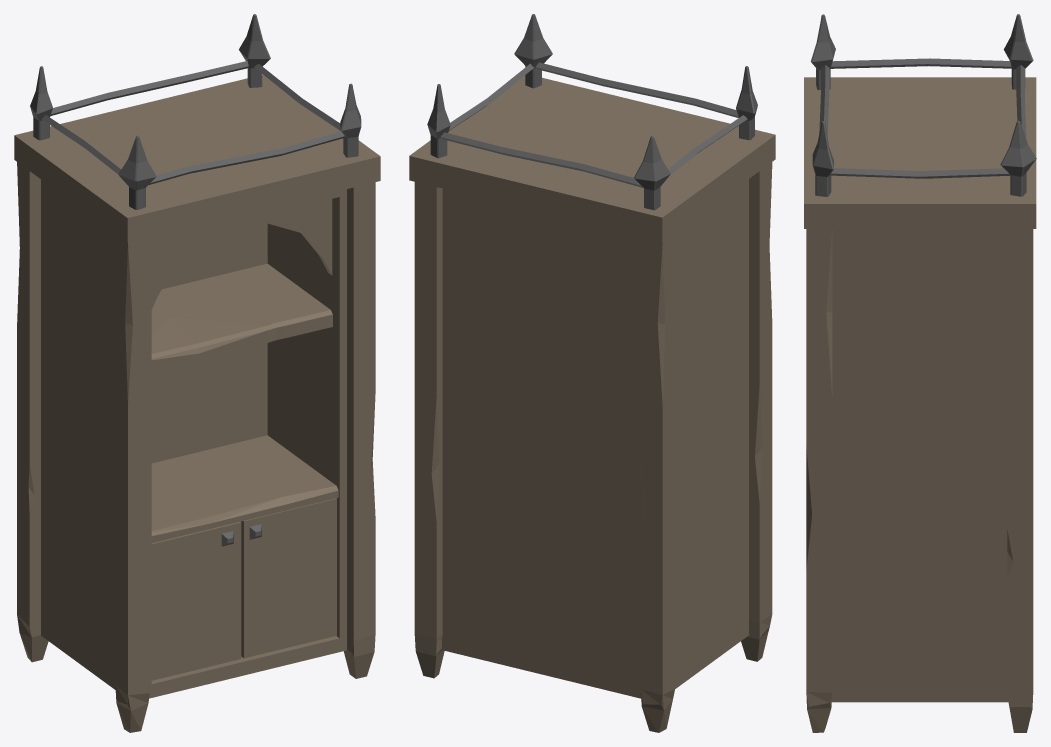
File: Bookshelf1.fbx
The picture shows the model from 3 angles, left to right: view 1: azimuth 30°, elevation 25°; view 2: azimuth 150°, elevation 25°; view 3: azimuth 270°, elevation 25°; orthographic projection. The views are drawn at different scales.
Visible parts, largest first — view 1: Bookshelf1, DoorRight, DoorLeft; view 2: Bookshelf1; view 3: Bookshelf1.
Part boxes in pixels (x1=…): Bookshelf1: x1=14, y1=14, x2=380, y2=732; DoorRight: x1=241, y1=498, x2=336, y2=658; DoorLeft: x1=151, y1=521, x2=241, y2=680; Bookshelf1: x1=409, y1=14, x2=775, y2=732; Bookshelf1: x1=804, y1=14, x2=1036, y2=732.
Bounding box in the file's own units: 157 × 351 × 122.
